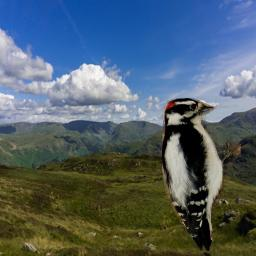Woodpecker: (162, 98, 241, 251)
